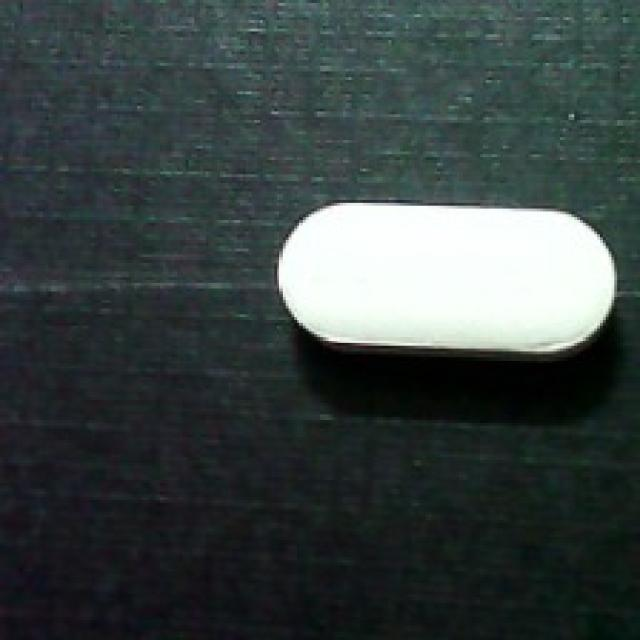no-defect: (274, 191, 620, 366)
